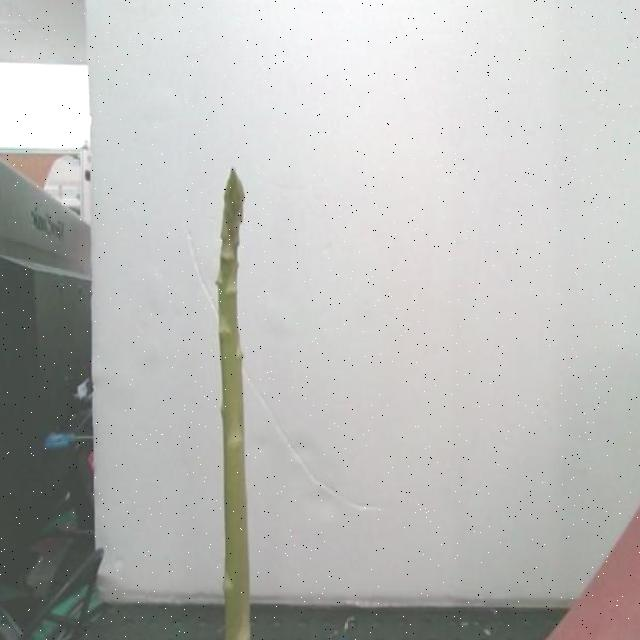aspargus: (219, 170, 252, 640)
